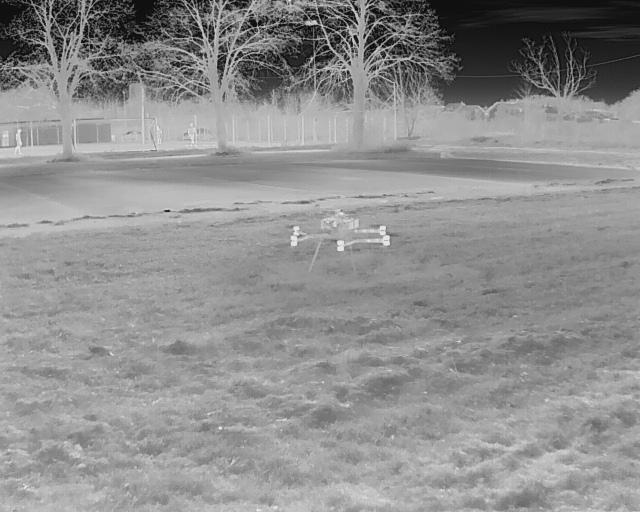drone: (266, 201, 409, 285)
